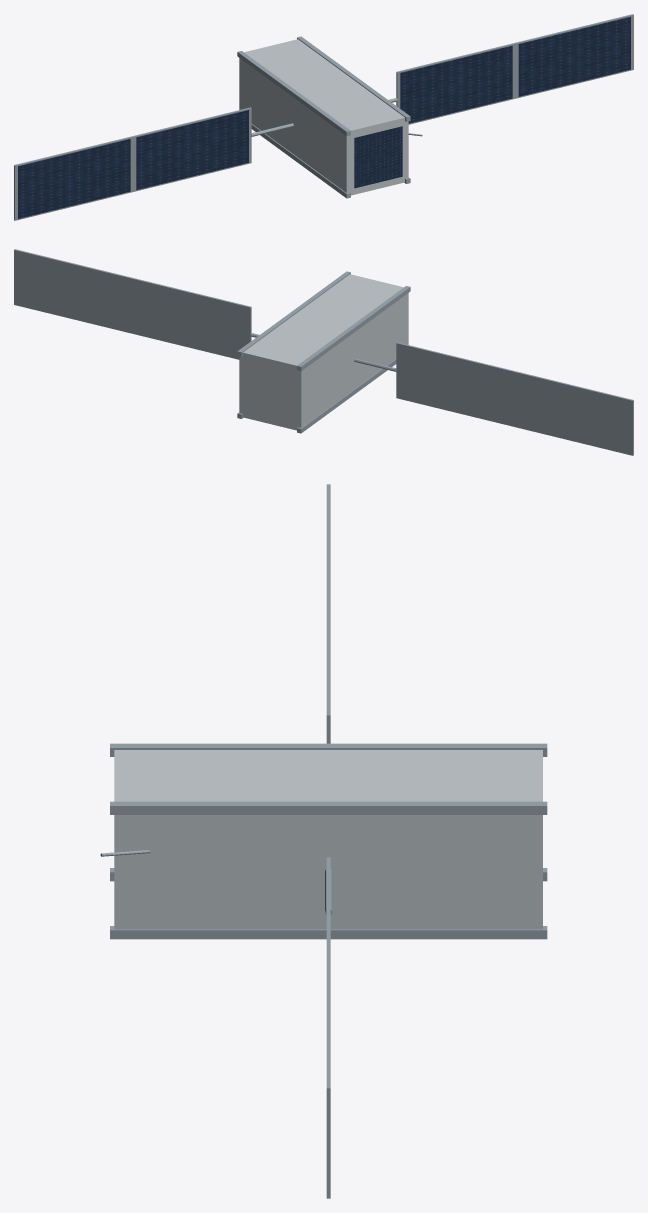
The model's file is ref-cubesat-6u-50466.glb.
3 renders of one model, top to bottom at view 1: azimuth 30°, elevation 25°; view 2: azimuth 150°, elevation 25°; view 3: azimuth 270°, elevation 25°, orthographic. The views are drawn at different scales.
Visible parts, largest first — view 1: Photovoltaic laminates (×4), Spacecraft body, Array frame (×4), Body-mounted cells, Dispenser rail (×3); view 2: Array frame (×4), Spacecraft body, Dispenser rail (×3); view 3: Spacecraft body, Dispenser rail (×3), Array frame.
Boxes of the visible parts, x1,y1,x2,y2 form: Photovoltaic laminates (×4): (18,17,630,218); Spacecraft body: (239,39,408,195); Array frame (×4): (14,14,633,220); Body-mounted cells: (354,126,402,188); Dispenser rail (×3): (237,36,410,198); Array frame (×4): (14,249,633,455); Spacecraft body: (239,274,408,430); Dispenser rail (×3): (237,271,410,433); Spacecraft body: (114,750,542,929); Dispenser rail (×3): (110,743,547,939); Array frame: (326,973,330,1198).
Bounding box in the file's own units: 1 × 0.103 × 0.3125.
3 materials, 1 textured.
